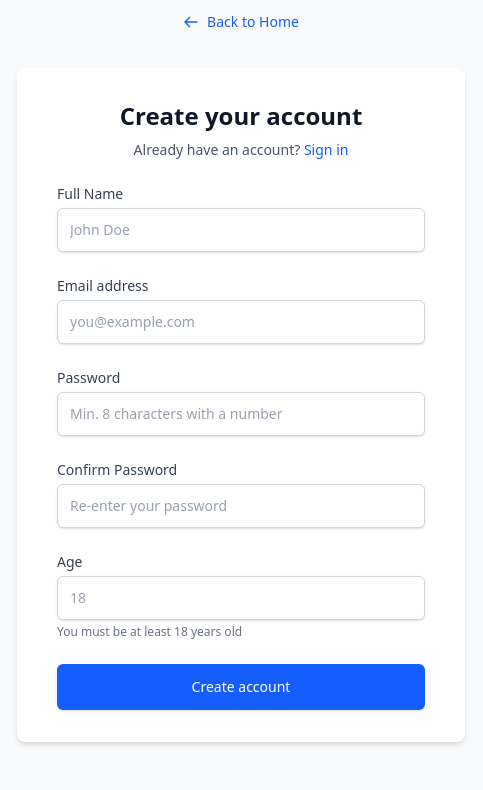
RegisterPage › validates all fields on form submission
(page scrolled)
Click the button "Create account" at (241, 687), box [57,664,425,710]
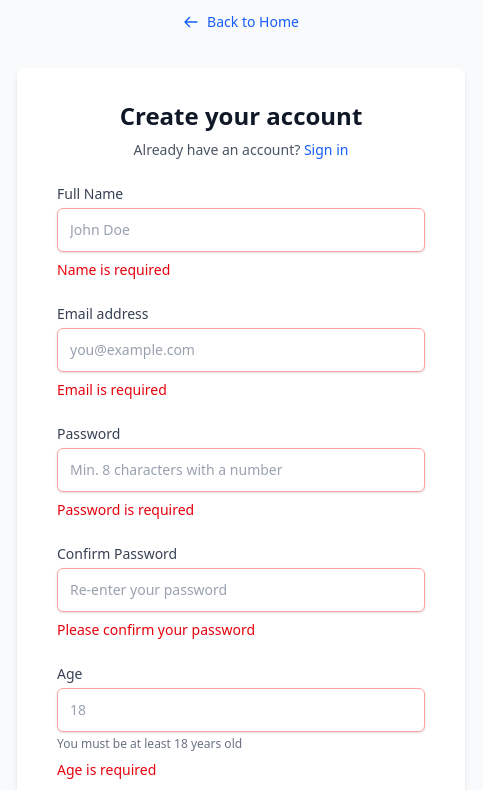
Check: the text "Name is required" is shown, box [57,260,170,279]
Check: the text "Email is required" is shown, box [57,380,167,399]
Check: the text "Password is required" is shown, box [57,500,194,519]
